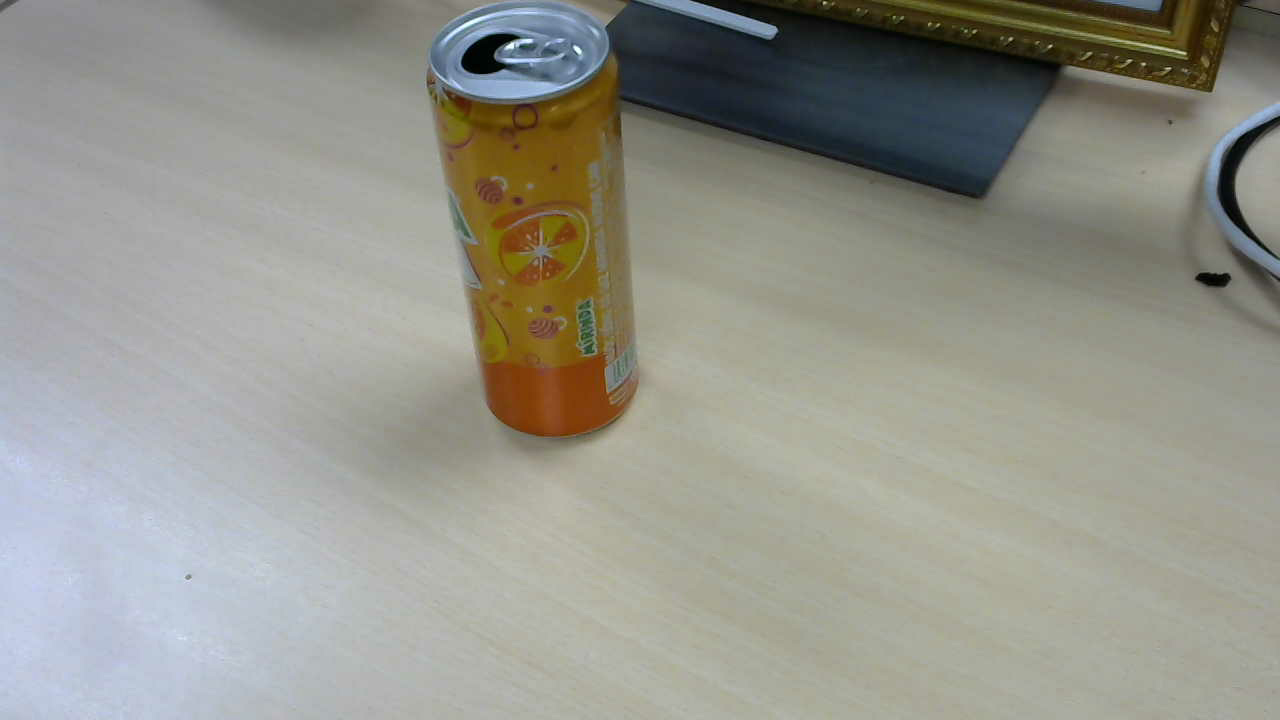Mirinda: (431, 6, 651, 443)
